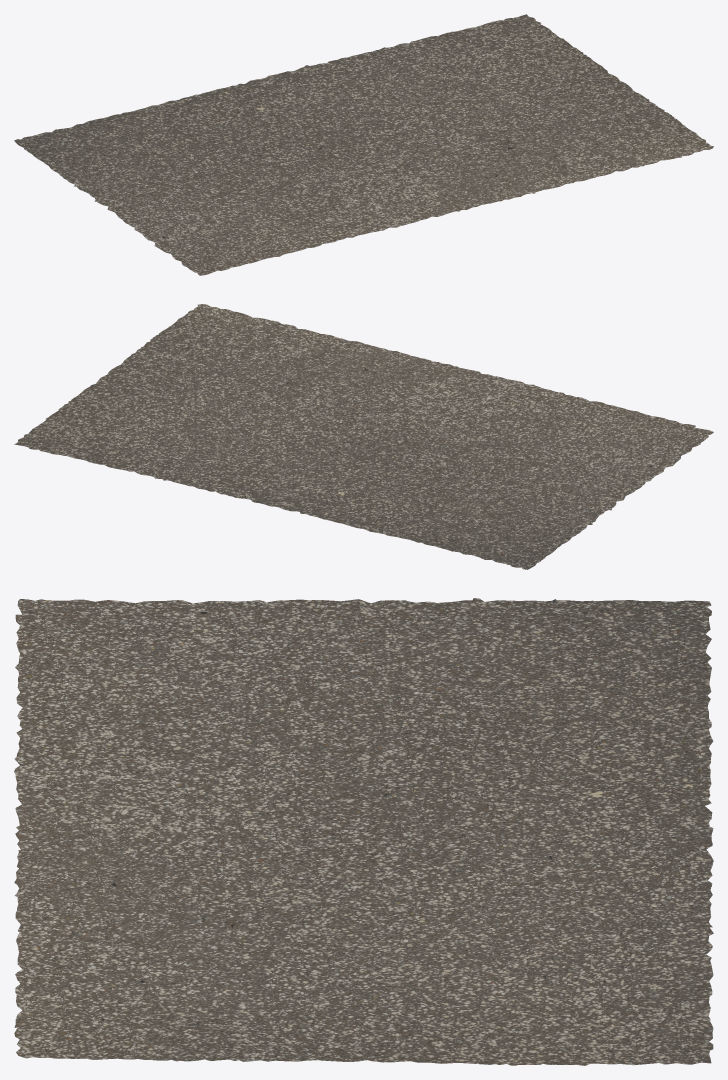
Rendered from asphalt_texture_3d_scan.glb.
3 views of the same model, one above another, from view 1: azimuth 30°, elevation 25°; view 2: azimuth 150°, elevation 25°; view 3: azimuth 270°, elevation 25° (orthographic). The views are drawn at different scales.
Parts seen in each view (by area): view 1: Object_2; view 2: Object_2; view 3: Object_2.
Part boxes in pixels (box(x1,y1,x2,y2)): Object_2: box(14, 14, 713, 275); Object_2: box(14, 304, 713, 569); Object_2: box(14, 598, 713, 1065).
Bounding box in the file's own units: 1.8 × 0.0209 × 1.14.
Materials: 1 (1 with a texture image).
